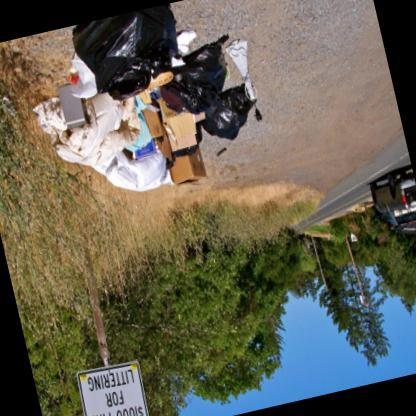Garbage: (154, 31, 268, 160), (64, 4, 188, 102)
